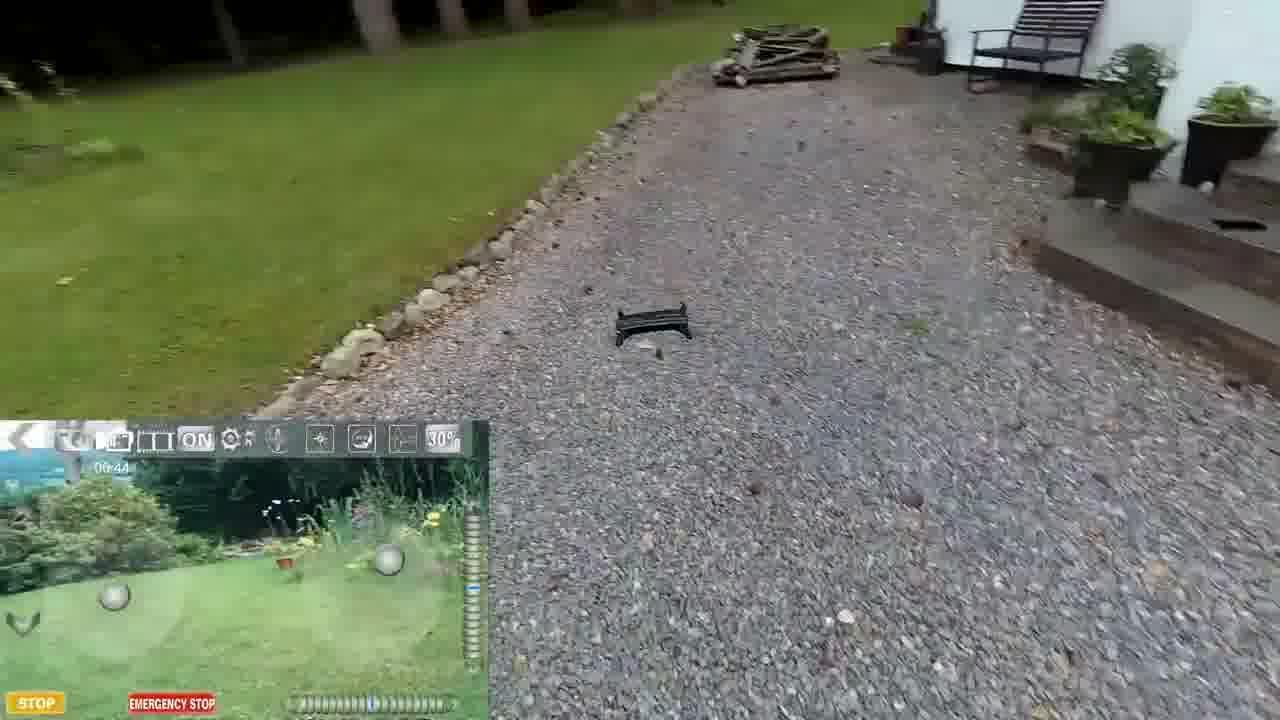drone: (607, 299, 707, 349)
